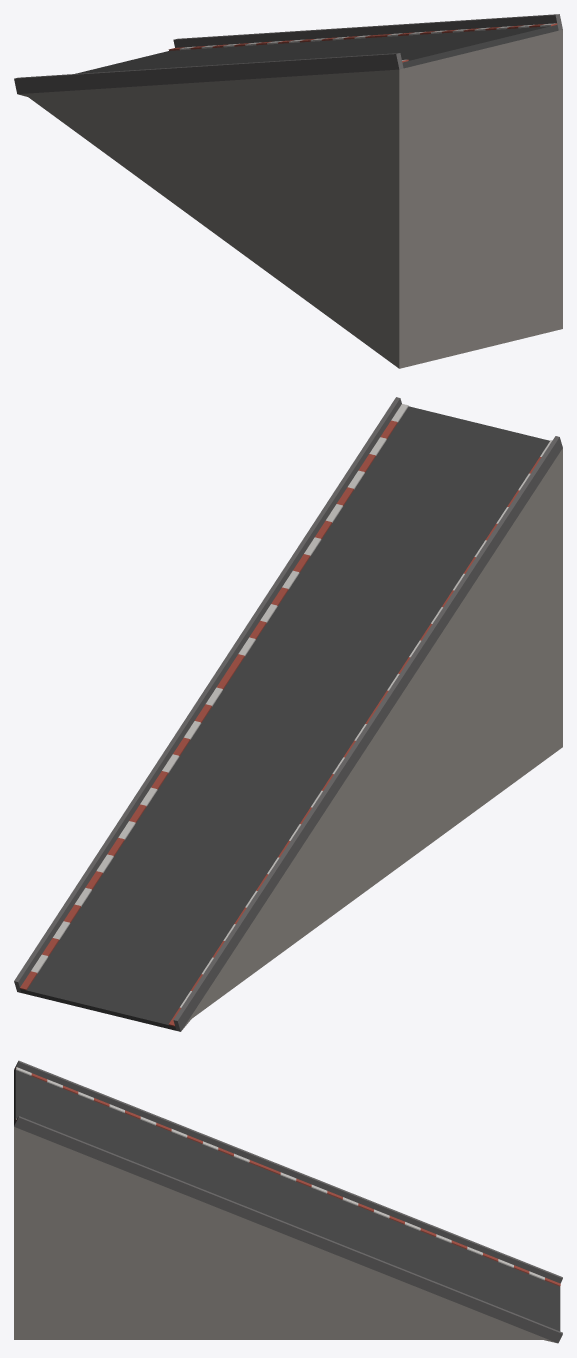
File: tp-straight-slope.glb
3 views of the same model, one above another, from view 1: azimuth 30°, elevation 25°; view 2: azimuth 150°, elevation 25°; view 3: azimuth 270°, elevation 25° (orthographic). The views are drawn at different scales.
Visible parts, largest first — view 1: tp-straight-slope; view 2: tp-straight-slope; view 3: tp-straight-slope.
Part boxes in pixels (bbox=[...]): tp-straight-slope: bbox=[14, 14, 562, 368]; tp-straight-slope: bbox=[14, 397, 562, 1031]; tp-straight-slope: bbox=[14, 1060, 562, 1343].
Size of what is drawn, in the model's own units: 15.43 by 28.62 by 62.94.
1 material, 1 textured.
